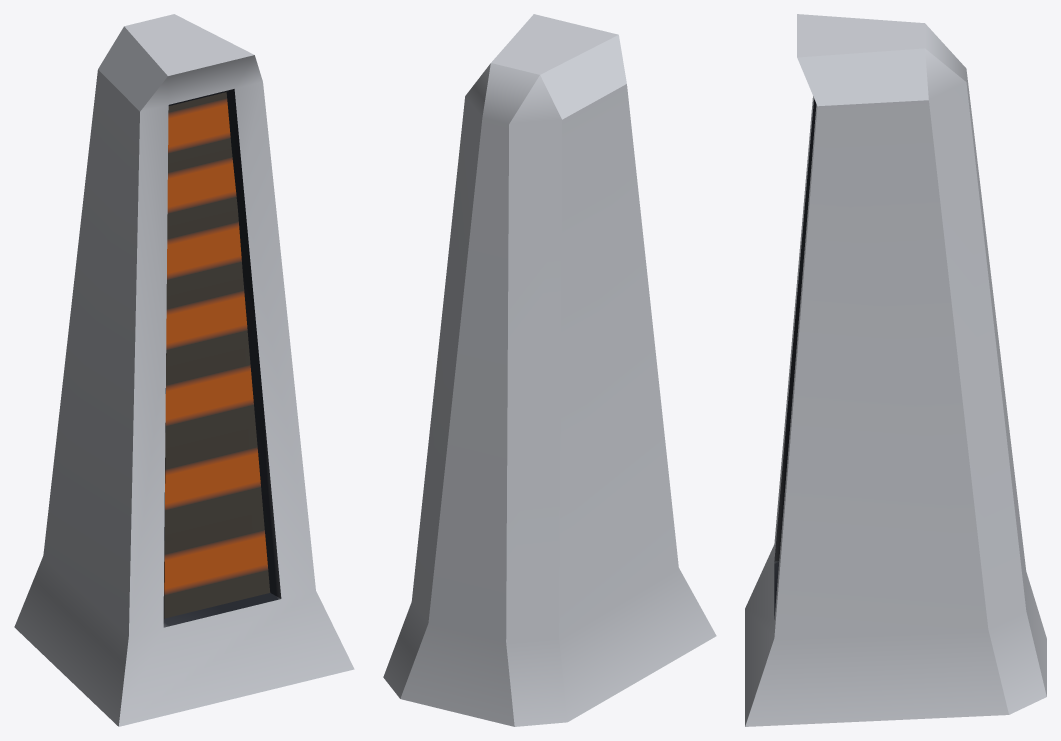
The model's file is shield.fbx.
3 renders of one model, left to right at view 1: azimuth 30°, elevation 25°; view 2: azimuth 150°, elevation 25°; view 3: azimuth 270°, elevation 25°, orthographic. The views are drawn at different scales.
Visible parts, largest first — view 1: shield; view 2: shield; view 3: shield.
Part boxes in pixels (box(x1,y1,x2,y2)): shield: box(14, 14, 354, 726); shield: box(383, 14, 716, 726); shield: box(745, 14, 1046, 726).
Bounding box in the file's own units: 0.5153 × 1.28 × 0.5546.
